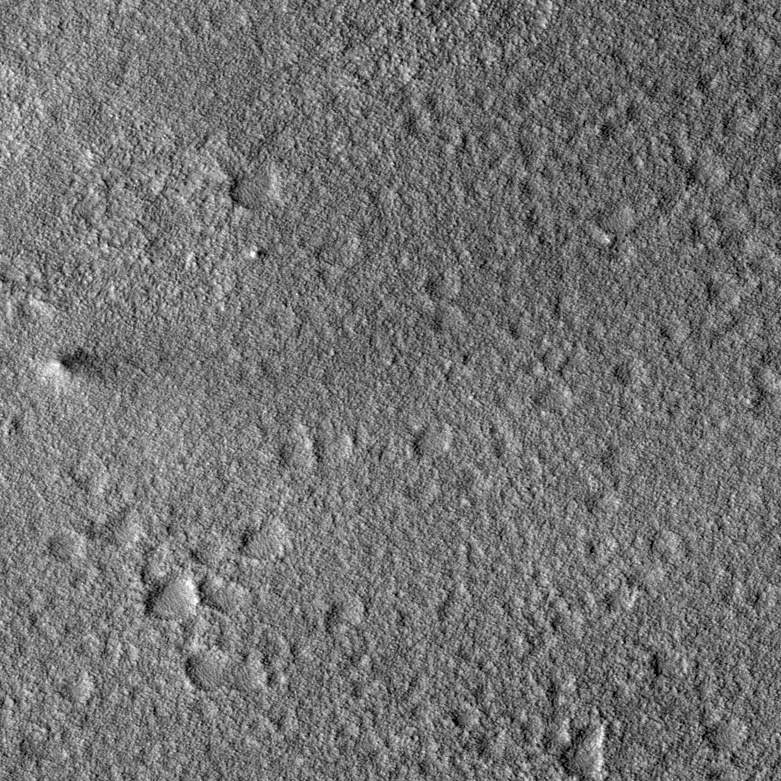dust_devil: (34, 344, 121, 394)
